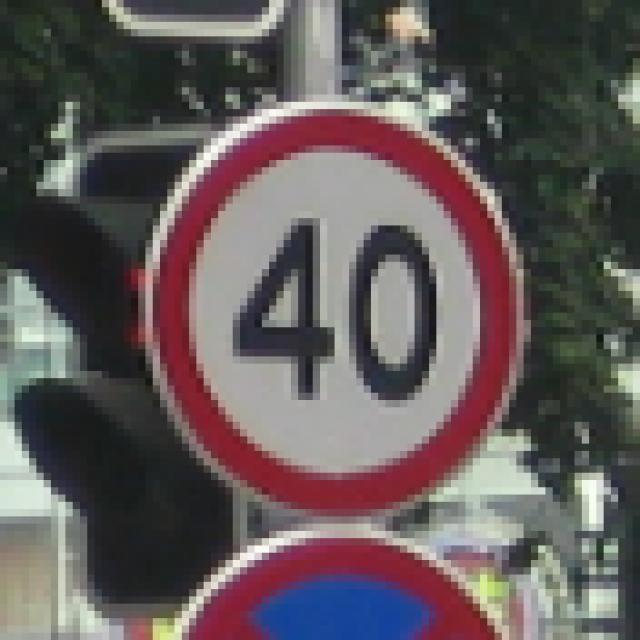speed limit 40: (143, 103, 522, 514)
